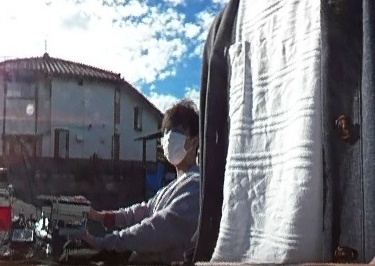person: (79, 101, 201, 254)
